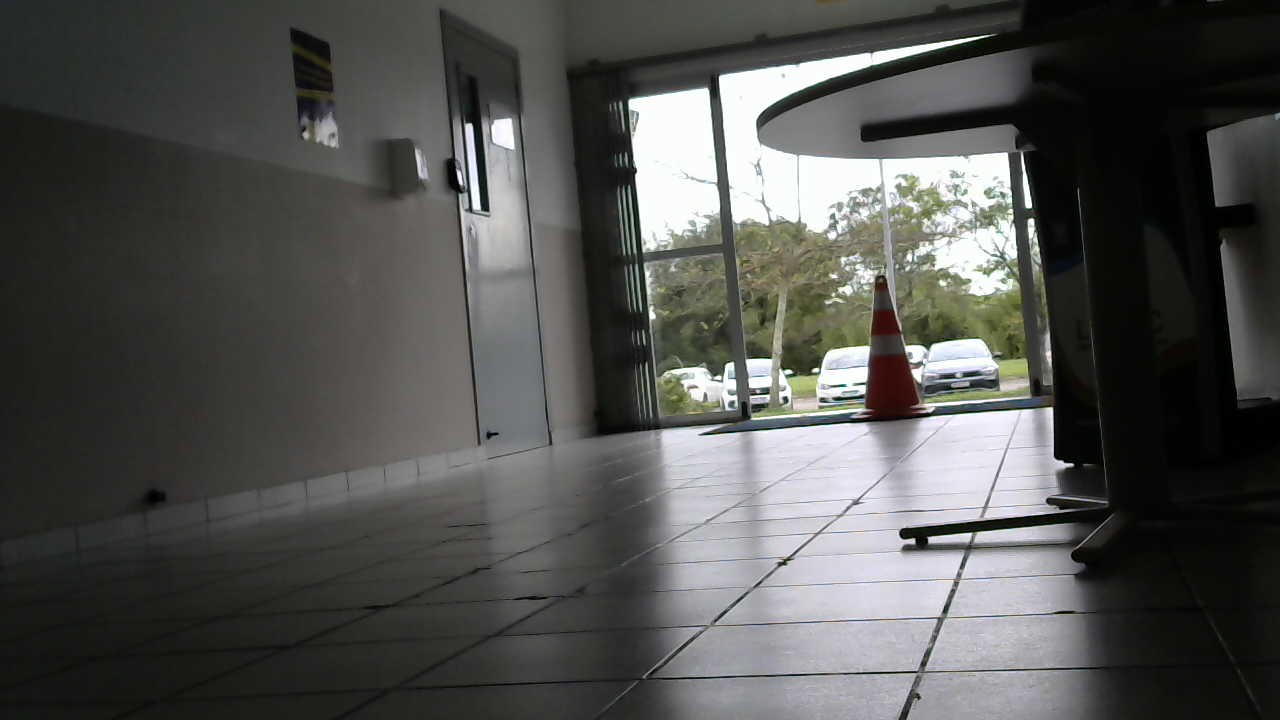cone: (859, 270, 929, 425)
